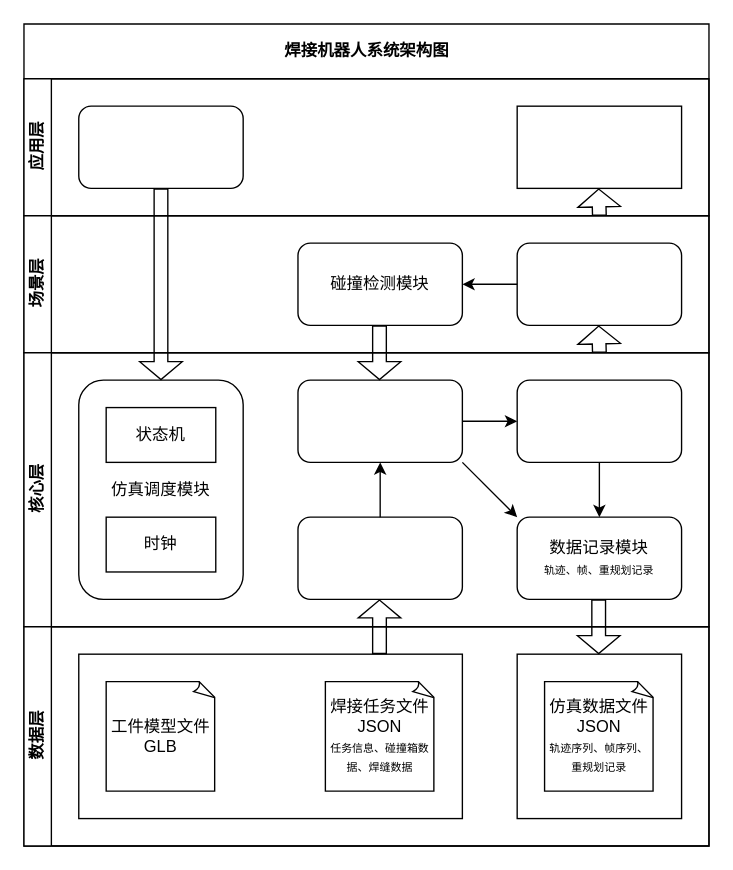
Some shapes in this 733 by 870 pixel diagram are drawn without their labels. The centre of each missing label's shape, as x and y in pixels:
"任务解析模块 任务、焊缝、碰撞箱" goes at pixel 379 557.
"仿真系统画面" goes at pixel 599 146.
"场景渲染模块 机械臂、工作台、工件、焊缝" goes at pixel 599 283.
"机器人控制模块 FK、IK" goes at pixel 599 420.
"用户控制模块" goes at pixel 160 146.
"轨迹规划模块 静态、动态规划" goes at pixel 379 420.
